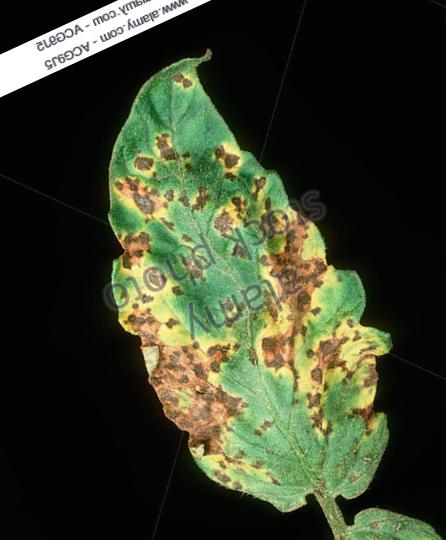Tomato Septoria leaf spot: (12, 20, 446, 540)
